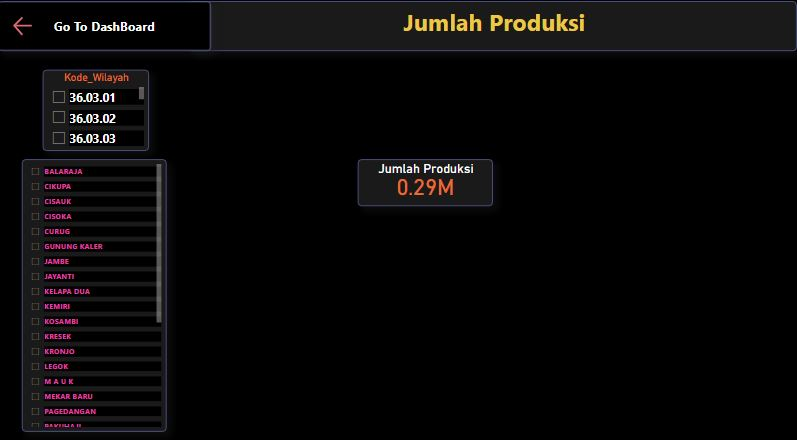

What the dashboard file says about the page in this screenshot:
{"tool":"powerbi","page":{"name":"Jumlah Produksi","canvas":[1280,720],"ordinal":5},"visuals":[{"type":"textbox","box":[305,8.3,975,80],"z":0},{"type":"actionButton","box":[0,8.4,341.4,80.1],"z":1000},{"type":"slicer","title":"State_name","fields":{"Values":["Produksi Sektor Pertanian Tahun 2023_0 (2).KECAMATAN"]},"box":[38.3,261.7,231.7,436.7],"z":2000},{"type":"slicer","title":"Kode_Wilayah","fields":{"Values":["Produksi Sektor Pertanian Tahun 2023_0 (2).KODE_WILAYAH"]},"box":[71.7,118.3,170,130],"z":3000},{"type":"card","title":"Jumlah Produksi","fields":{"Values":["Sum(Produksi Sektor Pertanian Tahun 2023_0 (2).JUMLAH)"]},"box":[576.7,261.7,216.7,75],"z":4000}]}

Visuals, with their boxes in screenshot pixels (x1, y1, x2, y2), scaled from the page's 1280x720 canvas onto the 797x440 screenshot:
textbox: (x1=190, y1=5, x2=796, y2=54)
actionButton: (x1=0, y1=5, x2=213, y2=54)
"State_name" slicer: (x1=24, y1=160, x2=168, y2=427)
"Kode_Wilayah" slicer: (x1=45, y1=72, x2=150, y2=152)
"Jumlah Produksi" card: (x1=359, y1=160, x2=494, y2=206)
